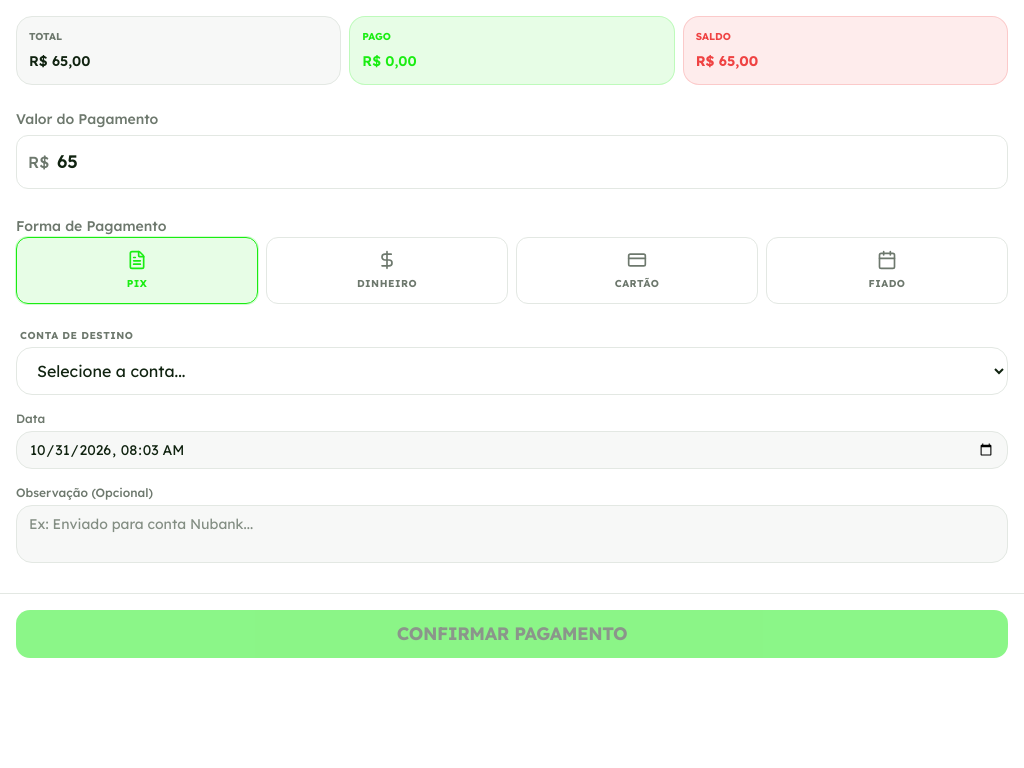
Test case: PaymentSidebar › 2. NÃO auto-seleciona conta: botão fica desabilitado até escolha consciente
expect the button "Confirmar Pagamento" is disabled: met, box [16, 610, 1008, 658]
# Após escolher a conta, o botão habilita.
Select "Conta Principal" in the dropdown: (512, 371) [16, 347, 1008, 395]
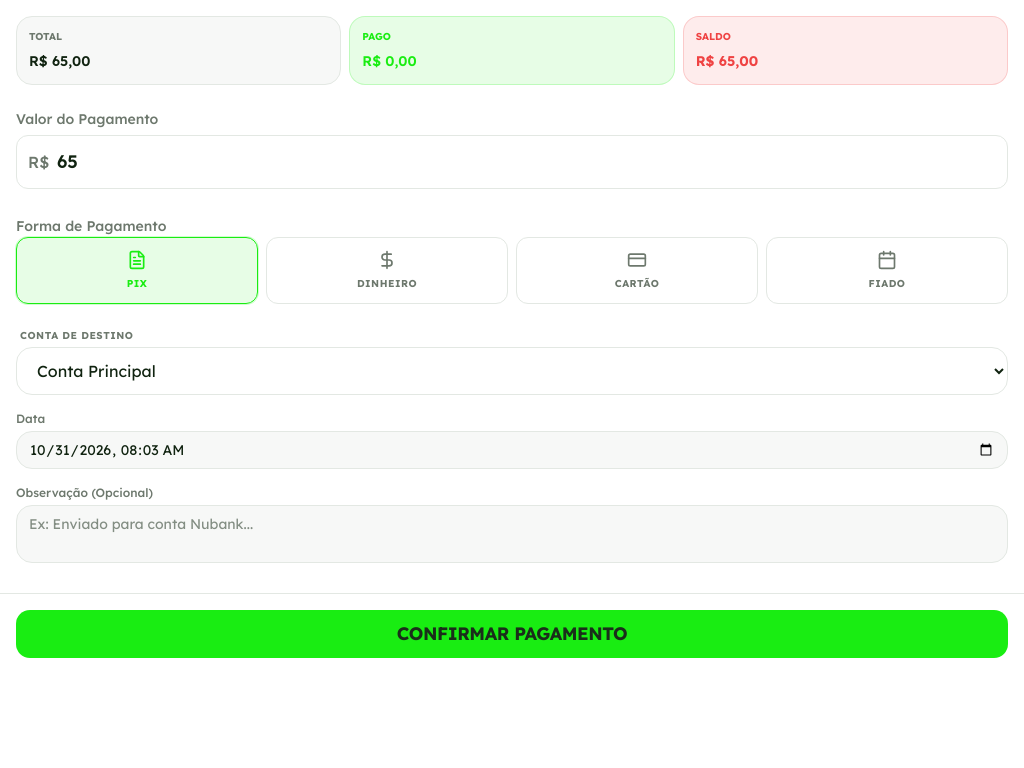
expect the button "Confirmar Pagamento" is enabled: met, box [16, 610, 1008, 658]
